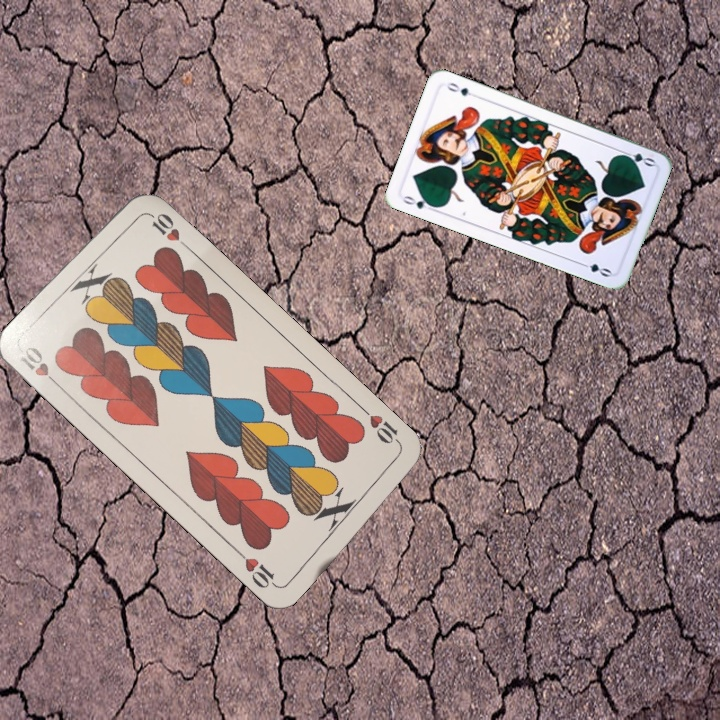GO: (616, 147, 657, 169), (398, 191, 439, 212)
H10: (15, 342, 64, 391), (358, 404, 405, 451)
